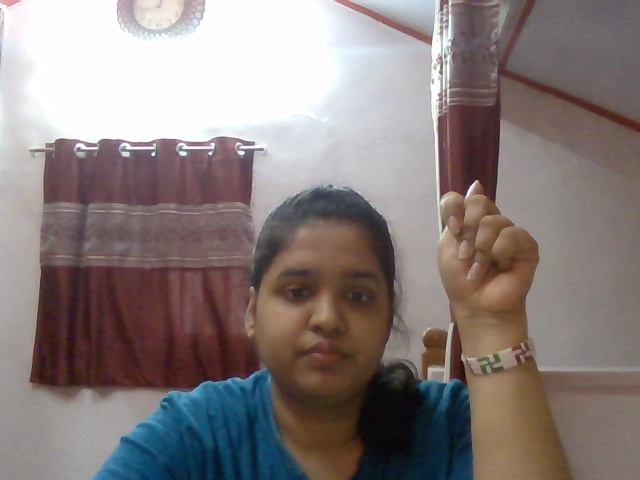t: (418, 167, 556, 322)
